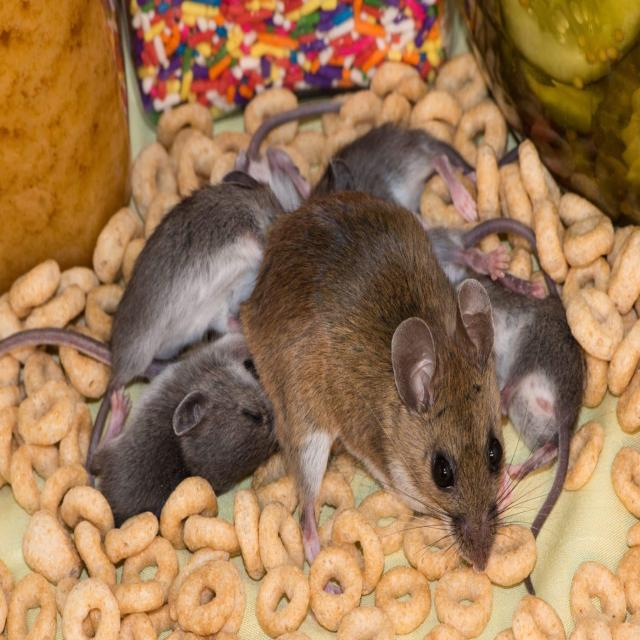rat: (242, 186, 518, 576), (75, 146, 312, 374), (429, 218, 591, 488), (68, 337, 298, 524)
